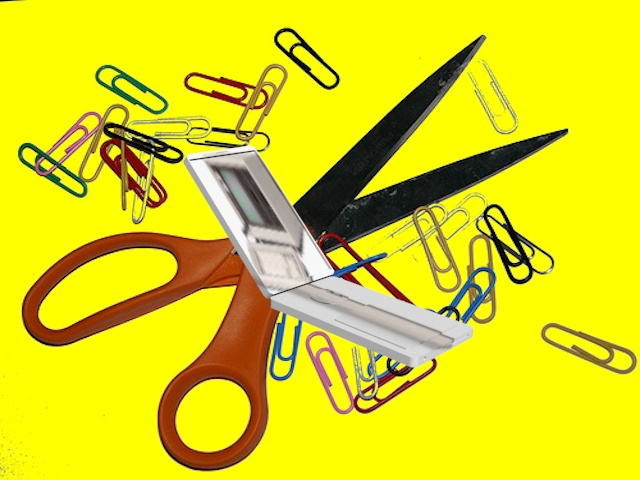mobile_phone: (177, 145, 480, 368)
